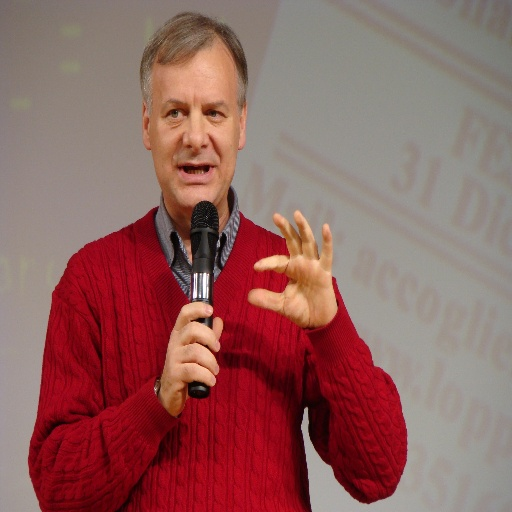hand: (248, 209, 337, 330), (155, 285, 219, 418)
